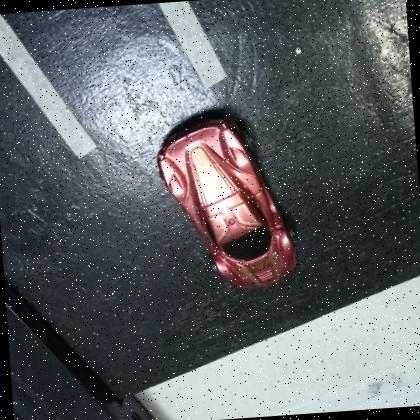Car: (157, 110, 297, 288)
